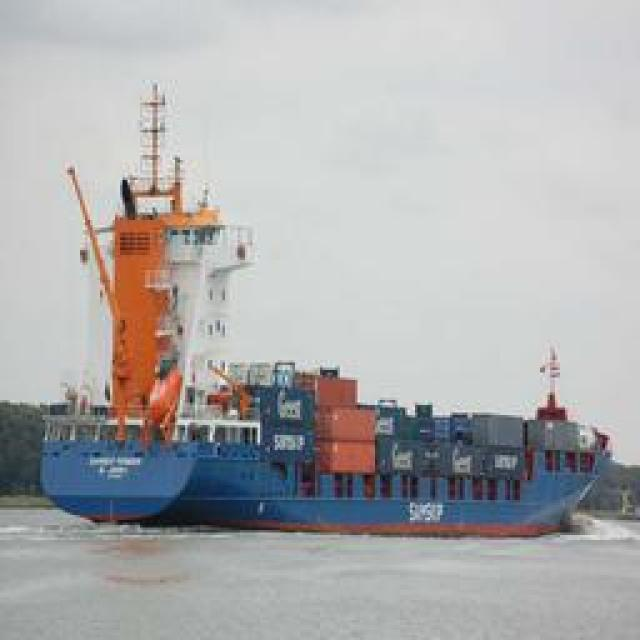CIV_Ship: (21, 338, 629, 540)
